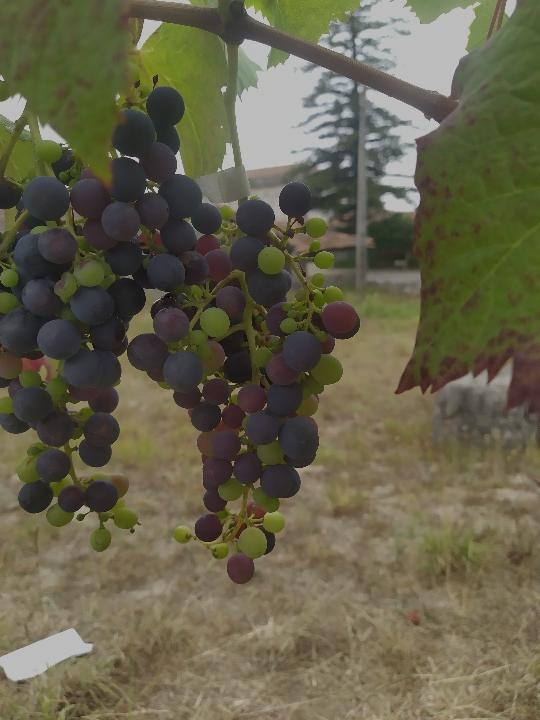grape: (0, 74, 219, 552), (124, 183, 364, 588)
